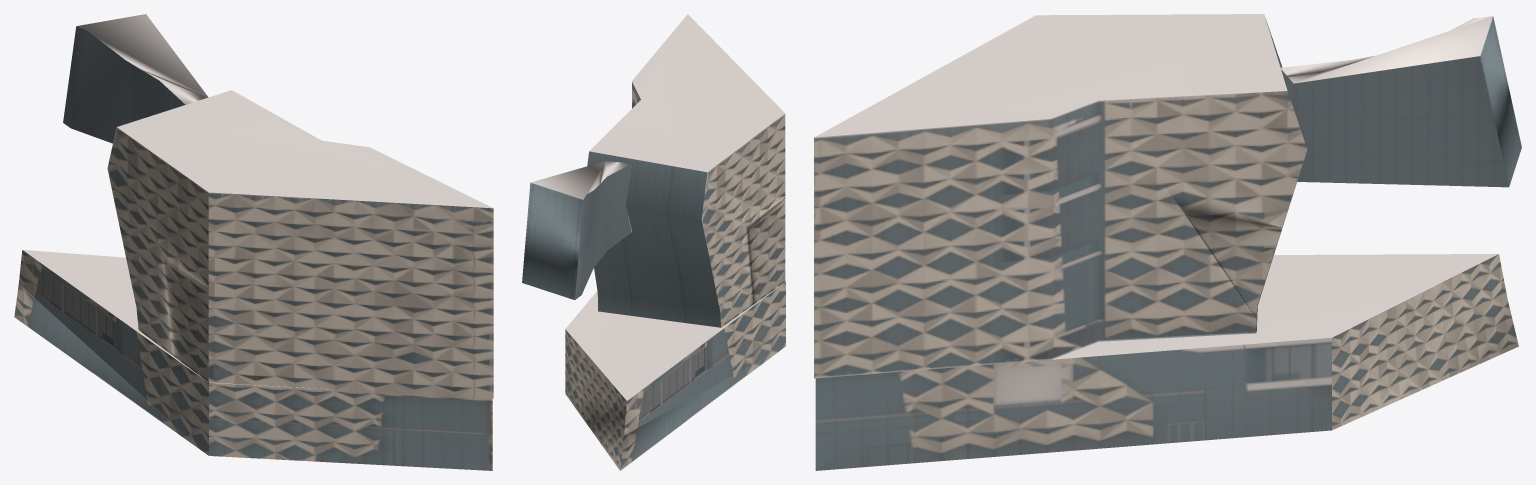
Rendered from 111_newW_A.glb.
The picture shows the model from 3 angles, left to right: view 1: azimuth 30°, elevation 25°; view 2: azimuth 150°, elevation 25°; view 3: azimuth 270°, elevation 25°; orthographic projection. The views are drawn at different scales.
Parts seen in each view (by area): view 1: 111A; view 2: 111A; view 3: 111A.
Part boxes in pixels (x1,y1,x2,y2): 111A: (14,14,493,470); 111A: (522,14,785,470); 111A: (814,14,1521,470).
Bounding box in the file's own units: 34.07 × 46.18 × 81.7.
Materials: 1 (1 with a texture image).
